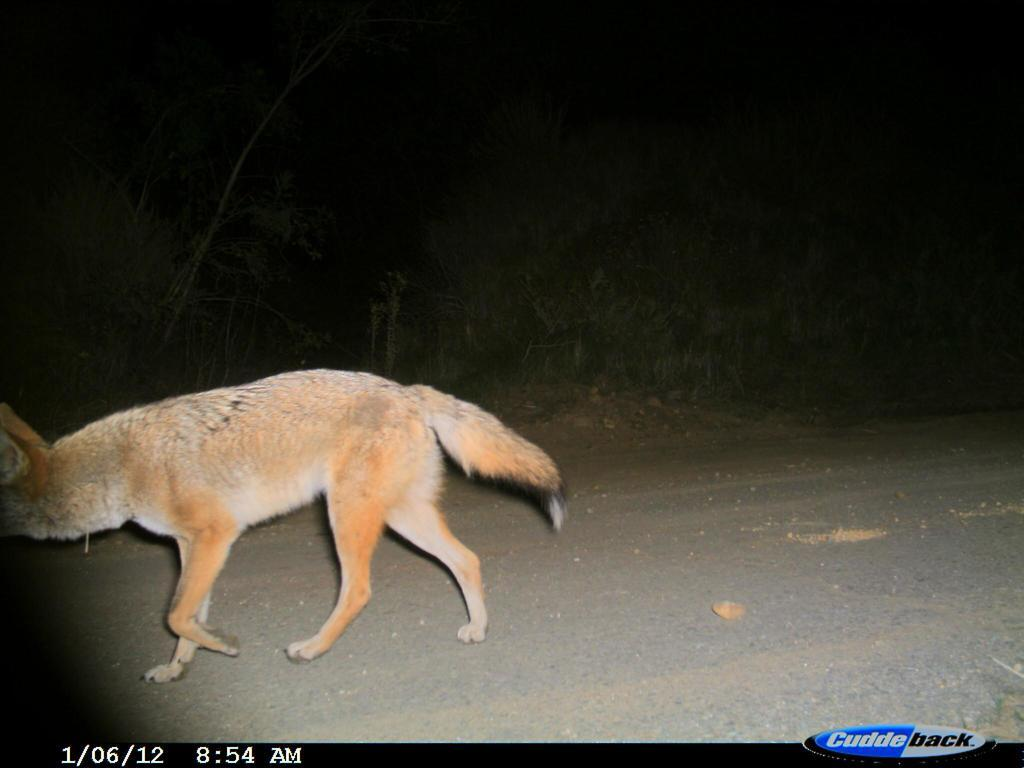coyote: (1, 344, 592, 700)
